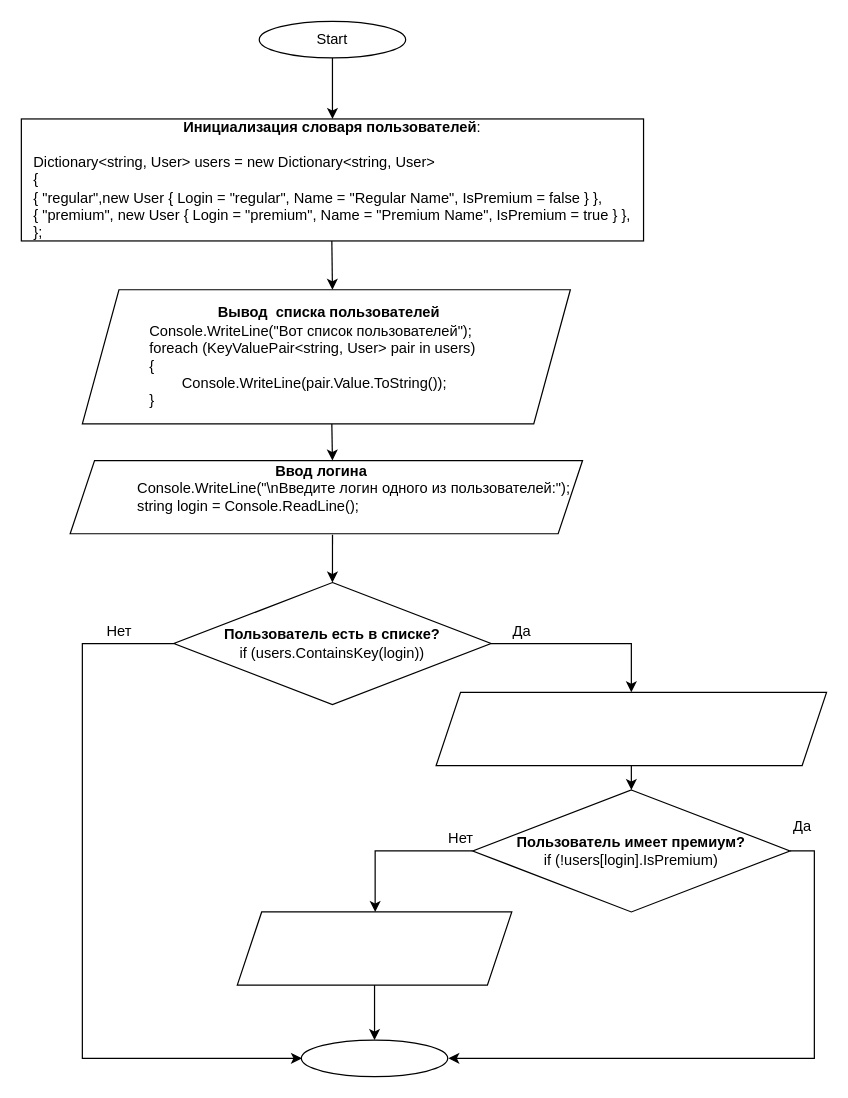
Some shapes in this 848 by 1098 pixel diagram are drawn without their labels. Here are the shapes that lost their labels. From the top down, the box of each, then its label:
(435, 691, 827, 766): Вывод приветствия Console.WriteLine($"Привет, {users[login].Name}");
(236, 911, 512, 985): Вывод рекламы ShowAds();
(300, 1039, 448, 1077): End
